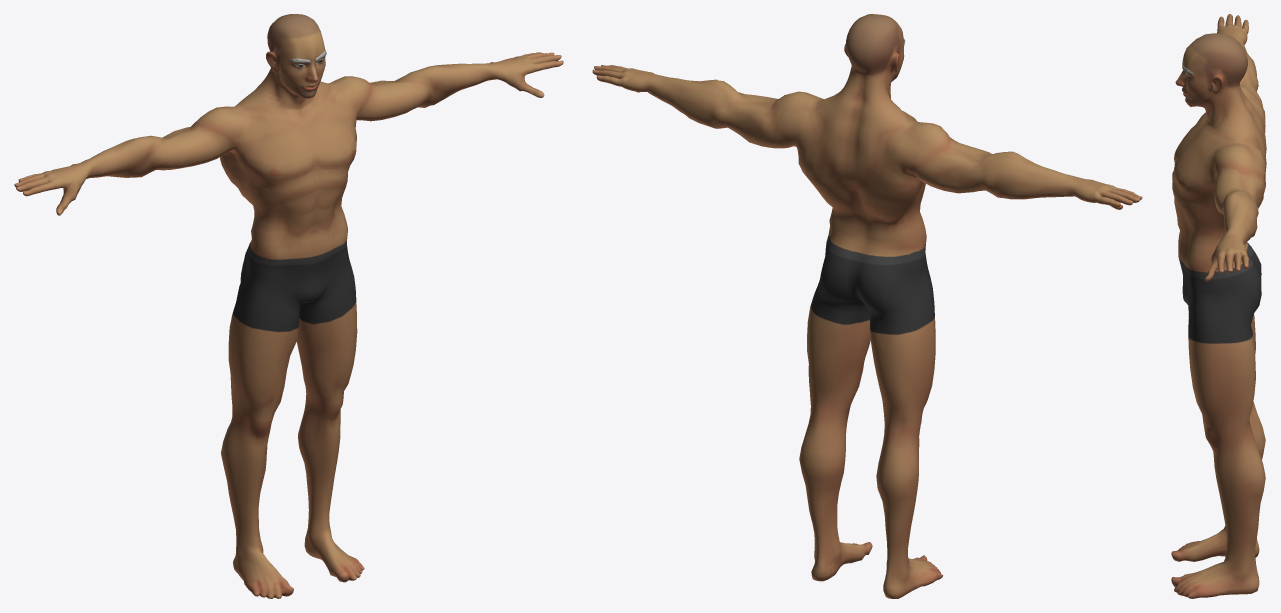
Rendered from humanoid-static.glb.
3 views of the same model, side by side, from view 1: azimuth 30°, elevation 25°; view 2: azimuth 150°, elevation 25°; view 3: azimuth 270°, elevation 25° (orthographic). The views are drawn at different scales.
Parts seen in each view (by area): view 1: SuperHero_Male; view 2: SuperHero_Male; view 3: SuperHero_Male.
Part boxes in pixels (<box>): SuperHero_Male: <box>14,14,563,598</box>; SuperHero_Male: <box>592,14,1142,598</box>; SuperHero_Male: <box>1171,14,1266,598</box>.
Bounding box in the file's own units: 1.86 × 1.82 × 0.2915.
Materials: 3 (3 with a texture image).
